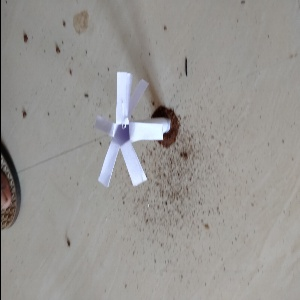weed: (95, 71, 175, 185)
